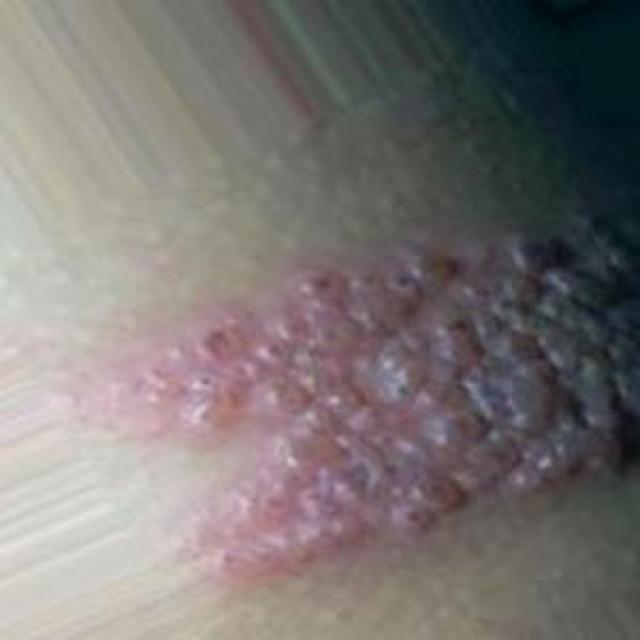Shingles: (166, 215, 640, 589)
